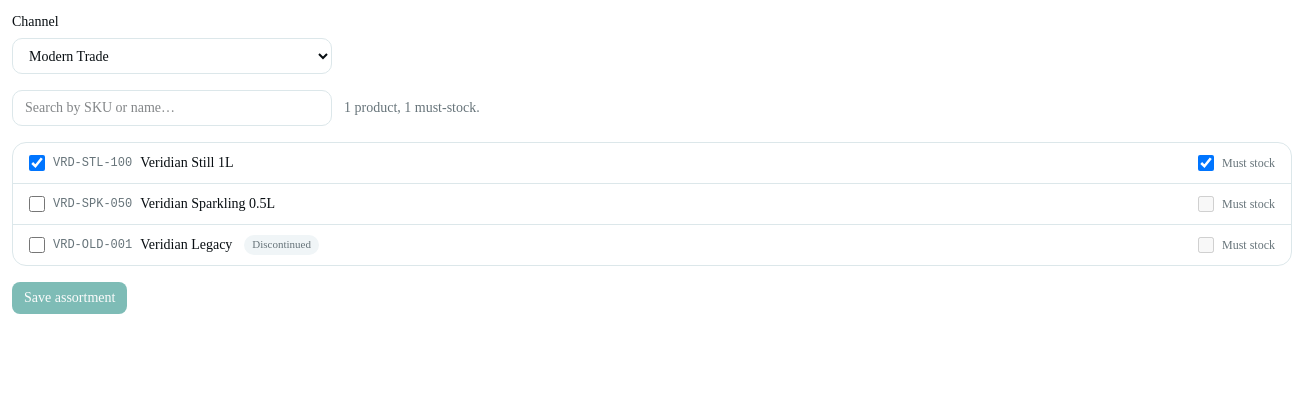
Test case: <AssortmentEditor> › passes on a refusal in the API's own words
Expected: the button "Save assortment" is shown, x1=12 y1=282 x2=127 y2=314
Click the checkbox named "Include Veridian Sparkling 0.5L". click: point(37, 204)
box: x1=29 y1=196 x2=45 y2=212
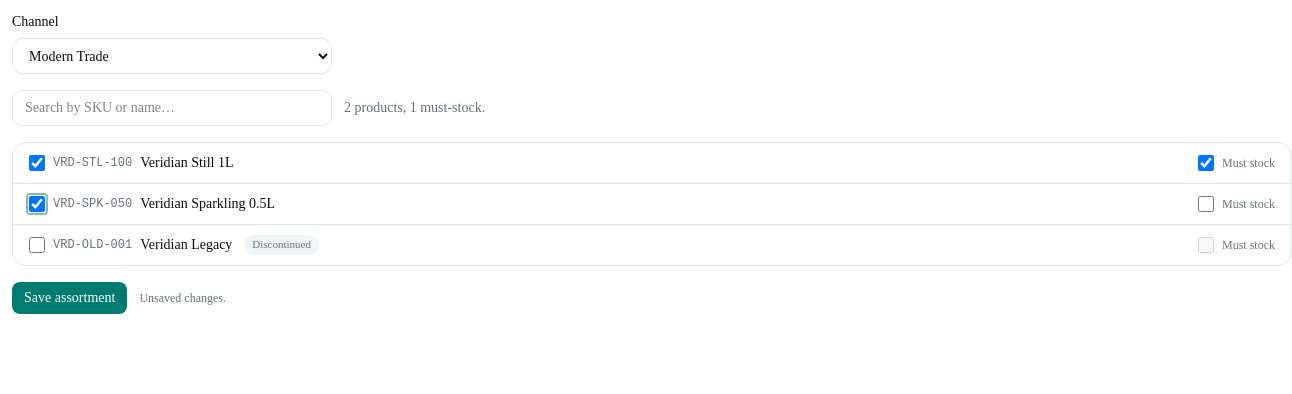
Click the button "Save assortment". click: point(70, 298)
box: x1=12 y1=282 x2=127 y2=314
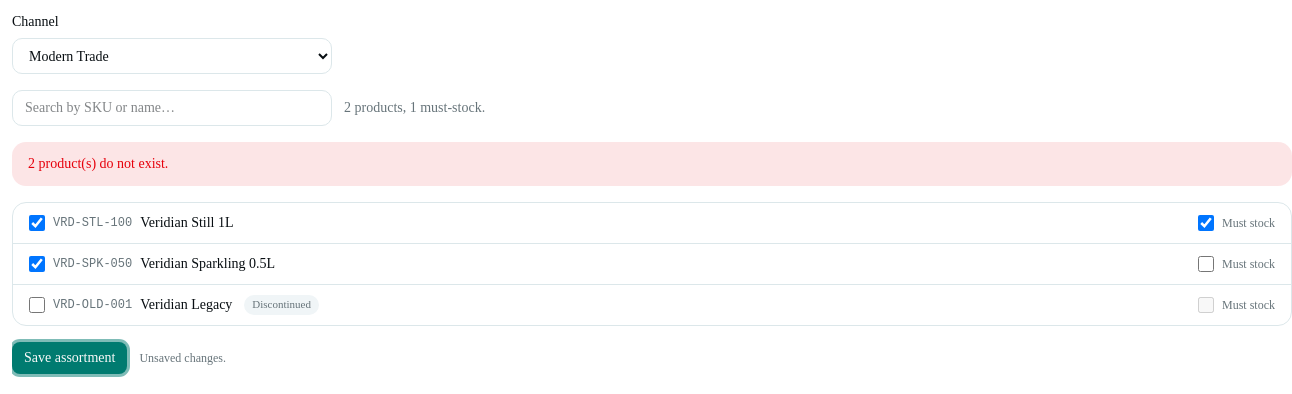
Result: the message "2 product(s) do not exist." is shown at x1=12 y1=142 x2=1291 y2=186
